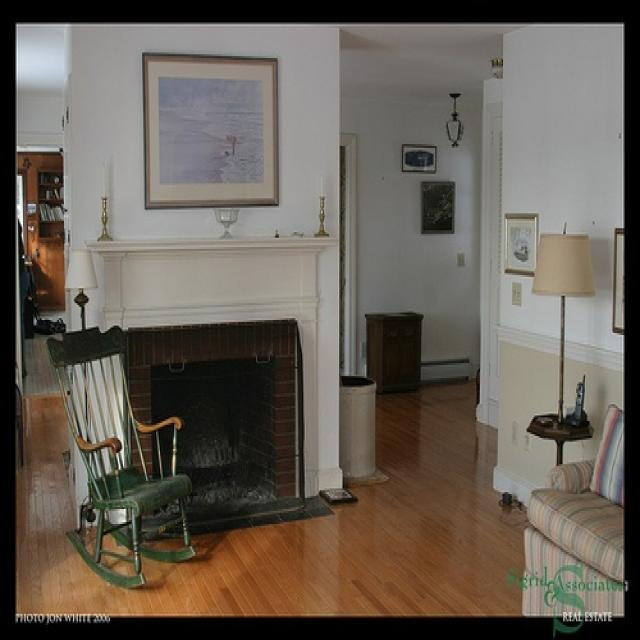chair: (44, 326, 200, 588)
sofa: (522, 402, 625, 620)
